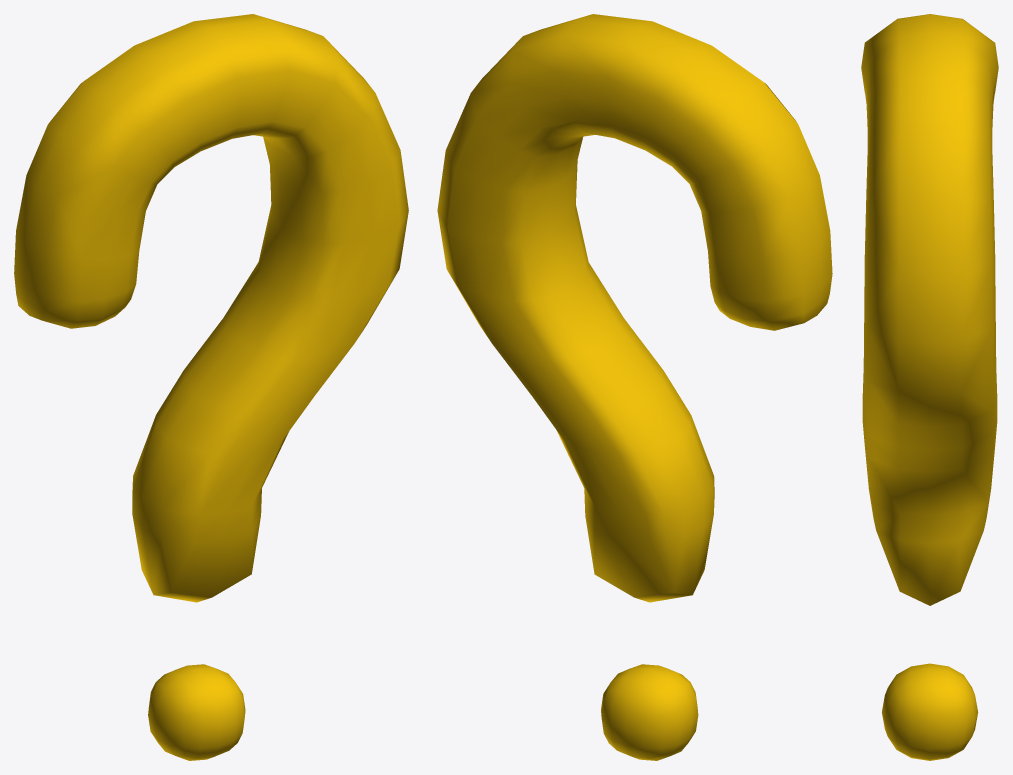
File: Question Mark.fbx
The picture shows the model from 3 angles, left to right: view 1: azimuth 30°, elevation 25°; view 2: azimuth 150°, elevation 25°; view 3: azimuth 270°, elevation 25°; orthographic projection.
Visible parts, largest first — view 1: Question Mark; view 2: Question Mark; view 3: Question Mark.
Boxes of the visible parts, left/top/right/bottom form: Question Mark: left=14, top=14, right=408, bottom=760; Question Mark: left=437, top=14, right=832, bottom=760; Question Mark: left=861, top=14, right=998, bottom=760.
Size of the model in its own units: 104 by 192 by 32.89.
